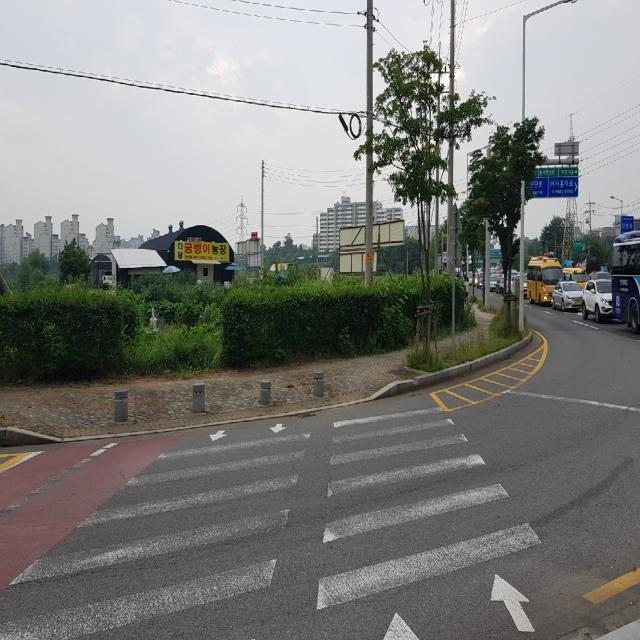횡단보도: (0, 404, 546, 640)
